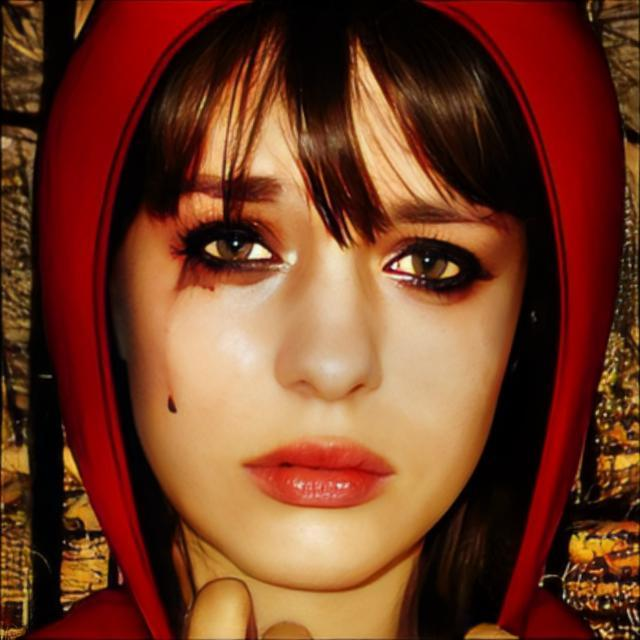sad: (119, 48, 526, 590)
